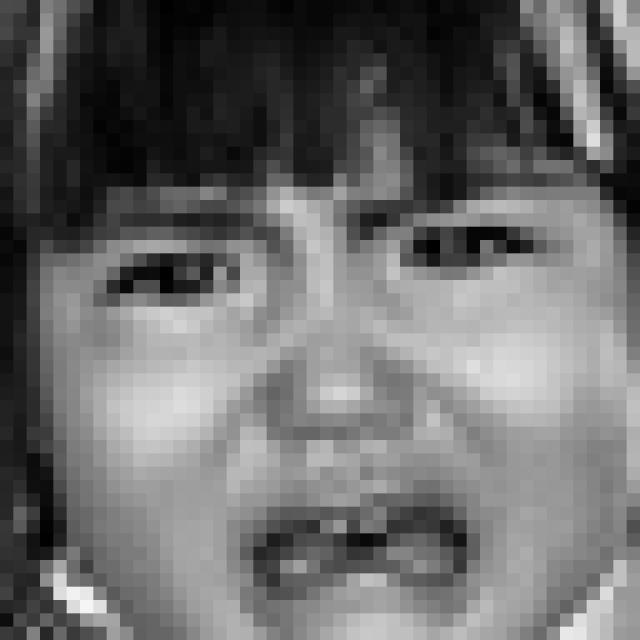sad: (91, 163, 583, 640)
